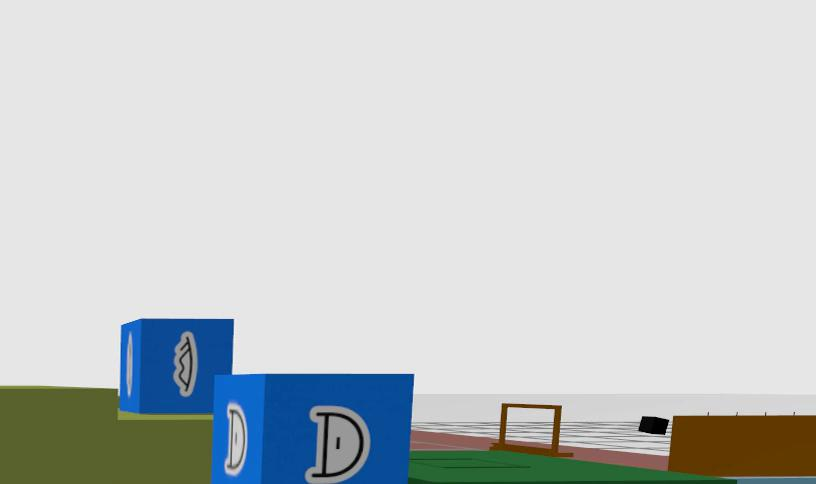KFS_REAL: (212, 372, 413, 484), (119, 318, 234, 415), (306, 407, 370, 482), (224, 402, 247, 475), (173, 331, 198, 397)
